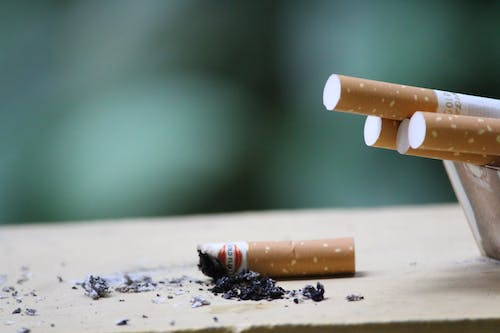cigarette: (321, 72, 500, 126), (192, 233, 360, 282), (392, 117, 500, 167), (406, 110, 500, 160), (364, 115, 399, 150)
